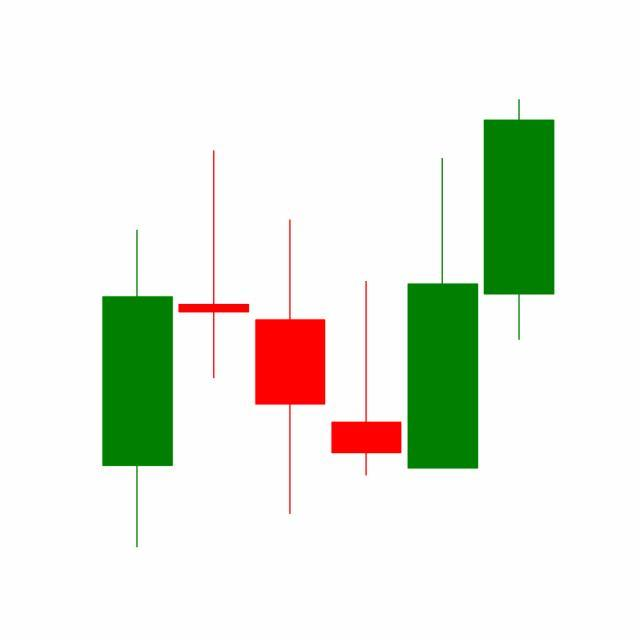Three Line Strike: (175, 147, 482, 519)
